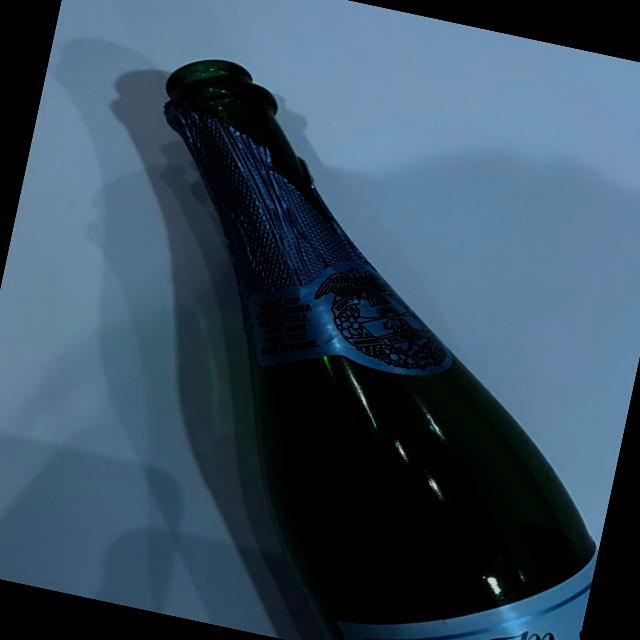glass: (49, 40, 640, 640)
